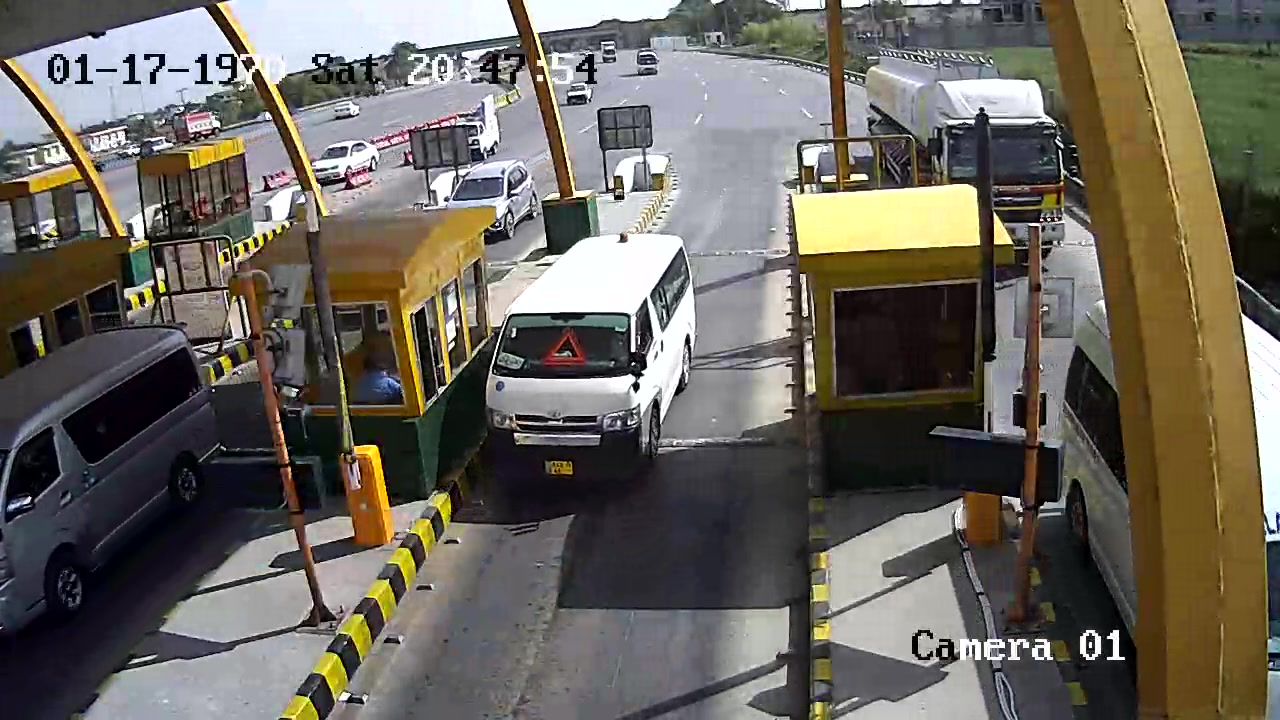F2: (485, 229, 701, 478)
